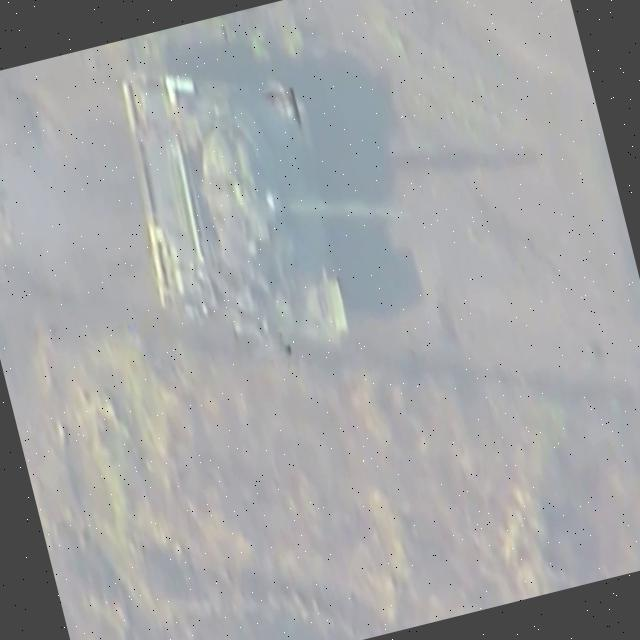MBT: (101, 4, 452, 427)
